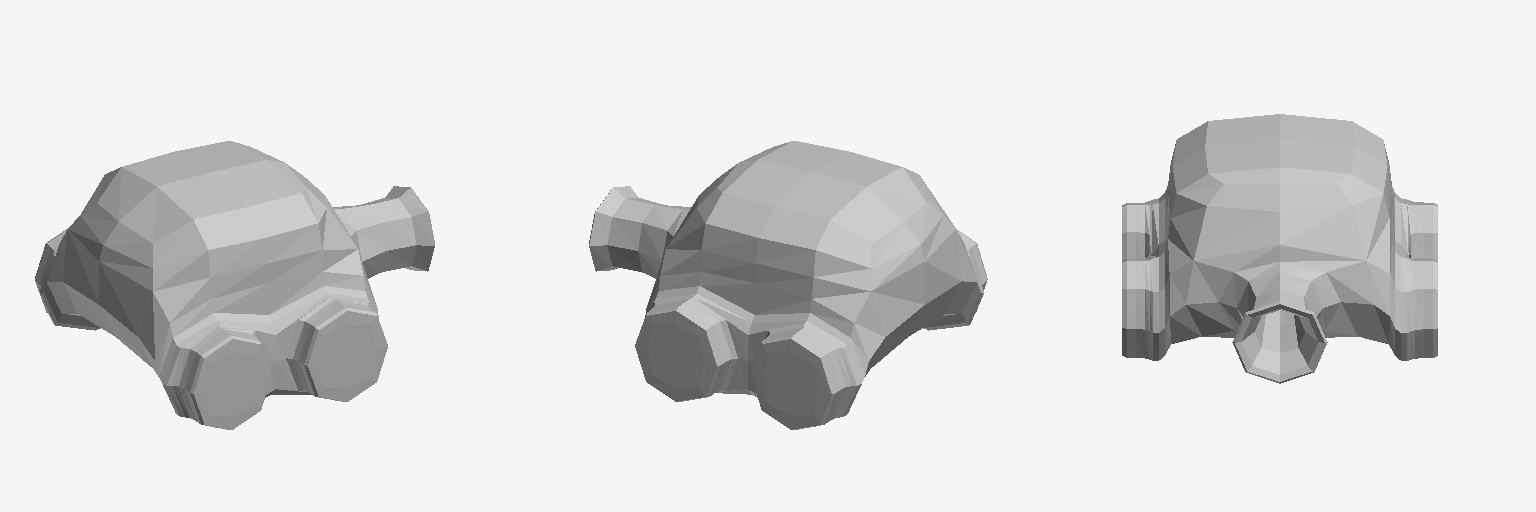
Rendered from enemy1.obj.
The picture shows the model from 3 angles: view 1: azimuth 30°, elevation 25°; view 2: azimuth 150°, elevation 25°; view 3: azimuth 270°, elevation 25°; orthographic projection.
Parts seen in each view (by area): view 1: Cube; view 2: Cube; view 3: Cube.
Part boxes in pixels (x1,y1,x2,y2): Cube: (35, 141, 434, 429); Cube: (589, 141, 987, 429); Cube: (1122, 114, 1437, 383).
Bounding box in the file's own units: 2.72 × 1.57 × 2.38.